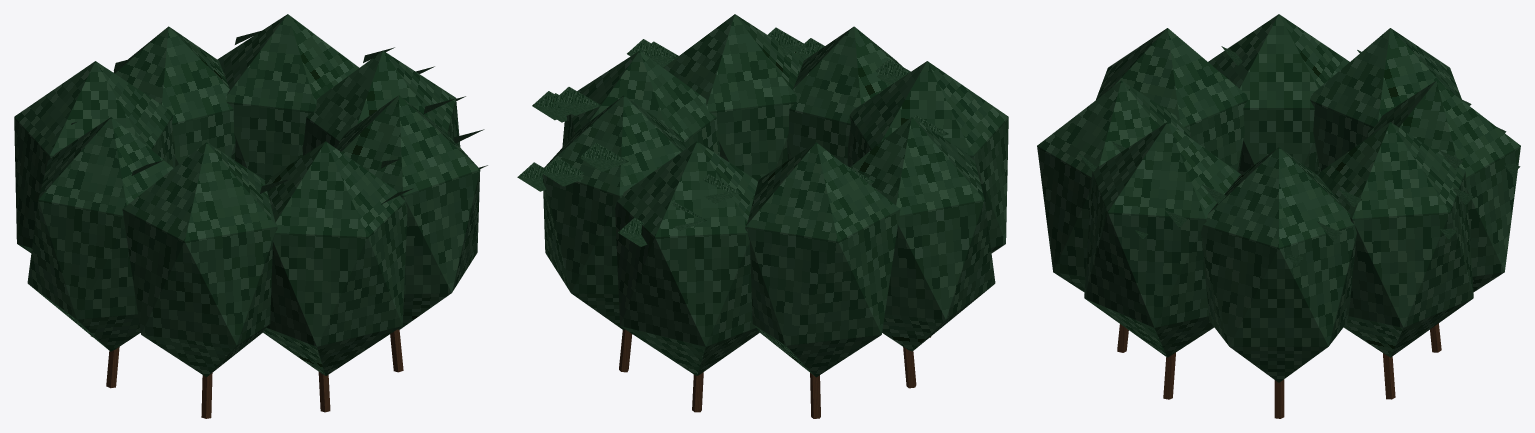
The model's file is level_shrub_refuge.glb.
The picture shows the model from 3 angles, left to right: view 1: azimuth 30°, elevation 25°; view 2: azimuth 150°, elevation 25°; view 3: azimuth 270°, elevation 25°; orthographic projection.
Visible parts, largest first — view 1: level_shrub_refuge; view 2: level_shrub_refuge; view 3: level_shrub_refuge.
Boxes of the visible parts, left/top/right/bottom form: level_shrub_refuge: left=14, top=14, right=487, bottom=418; level_shrub_refuge: left=517, top=14, right=1008, bottom=418; level_shrub_refuge: left=1037, top=14, right=1520, bottom=418.
Bounding box in the file's own units: 2.41 × 1.45 × 2.3.
2 materials, 2 textured.
